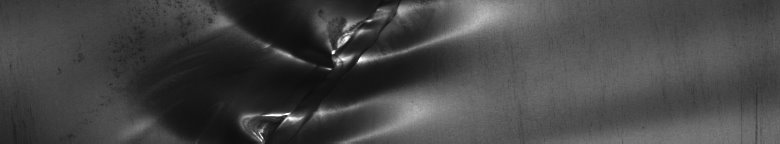ke: (220, 4, 461, 136)
